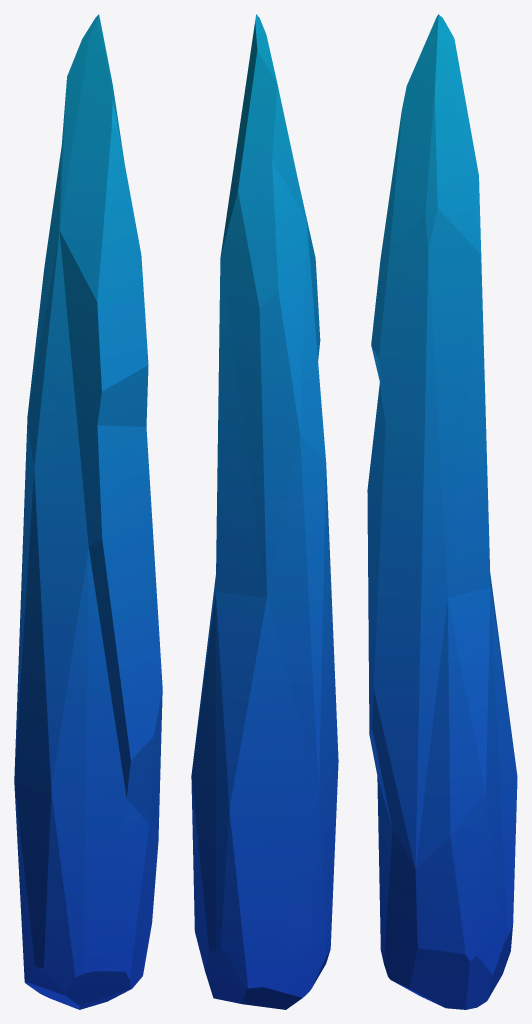
The model's file is purple_crystal.glb.
The picture shows the model from 3 angles, left to right: view 1: azimuth 30°, elevation 25°; view 2: azimuth 150°, elevation 25°; view 3: azimuth 270°, elevation 25°; orthographic projection.
Parts seen in each view (by area): view 1: crystal_25; view 2: crystal_25; view 3: crystal_25.
Part boxes in pixels (bbox=[...]): crystal_25: bbox=[14, 14, 162, 1009]; crystal_25: bbox=[191, 14, 338, 1009]; crystal_25: bbox=[367, 14, 517, 1009].
Size of the model in its own units: 1.88 by 13.9 by 1.92.
1 material, 1 textured.
